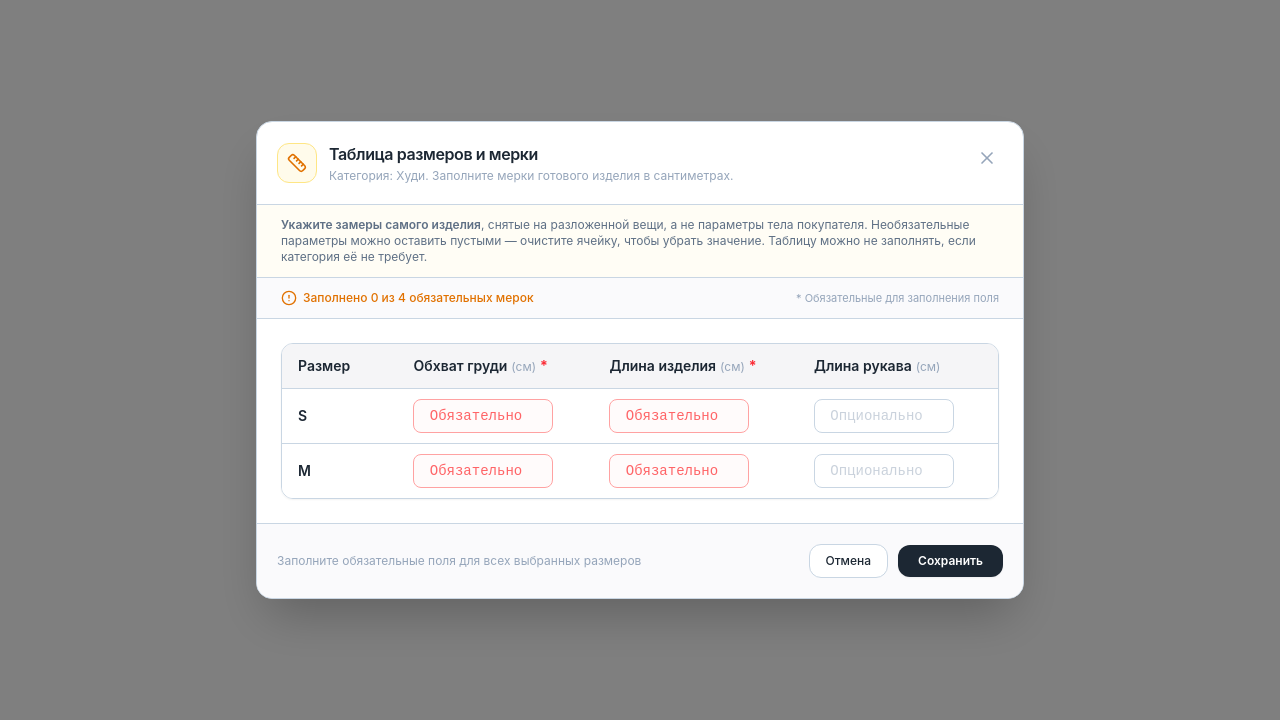
Scenario: ProductStudioSizeChartModal › entering measurements updates local state and progress badge
Type "95" into the number field with test id "measurement-input-sz-s-chest".
click(484, 416); type("95")  # box [414, 399, 554, 433]
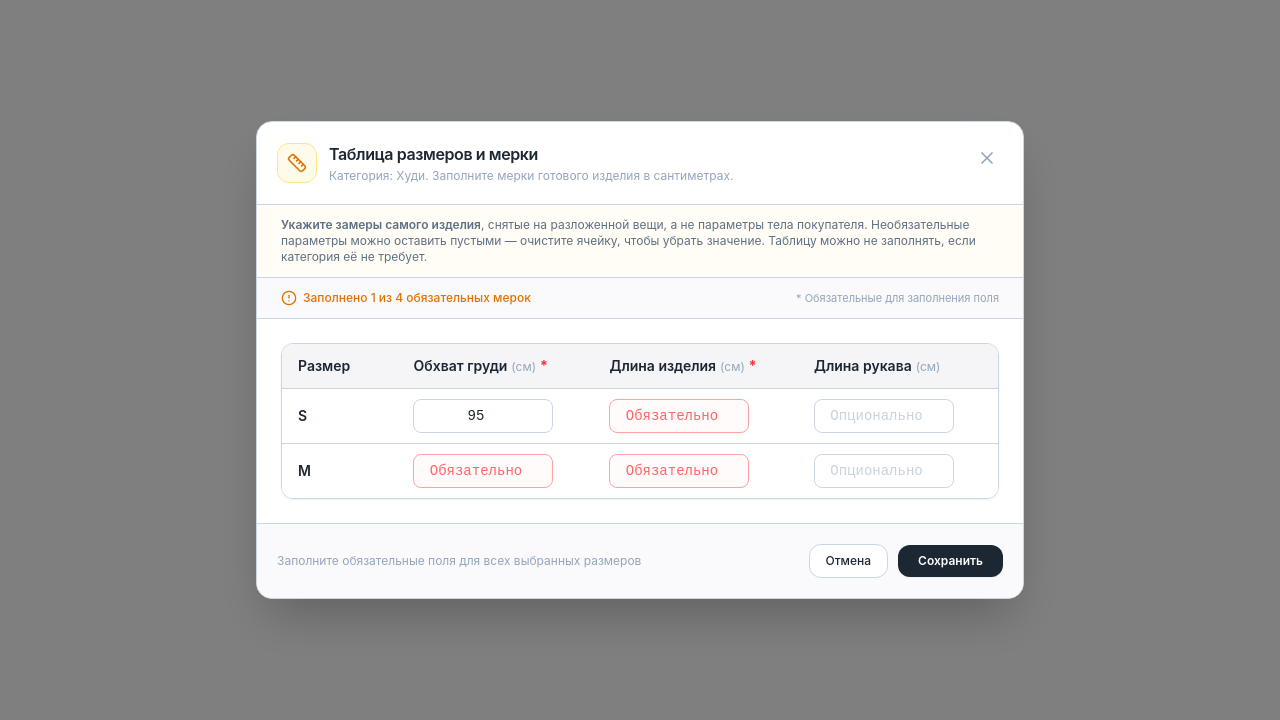
expect the text "Заполнено 1 из 4 обязательных мерок" is shown: met, box [281, 290, 531, 306]
Type "68" into the number field with test id "measurement-input-sz-s-length".
click(680, 416); type("68")  # box [610, 399, 750, 433]
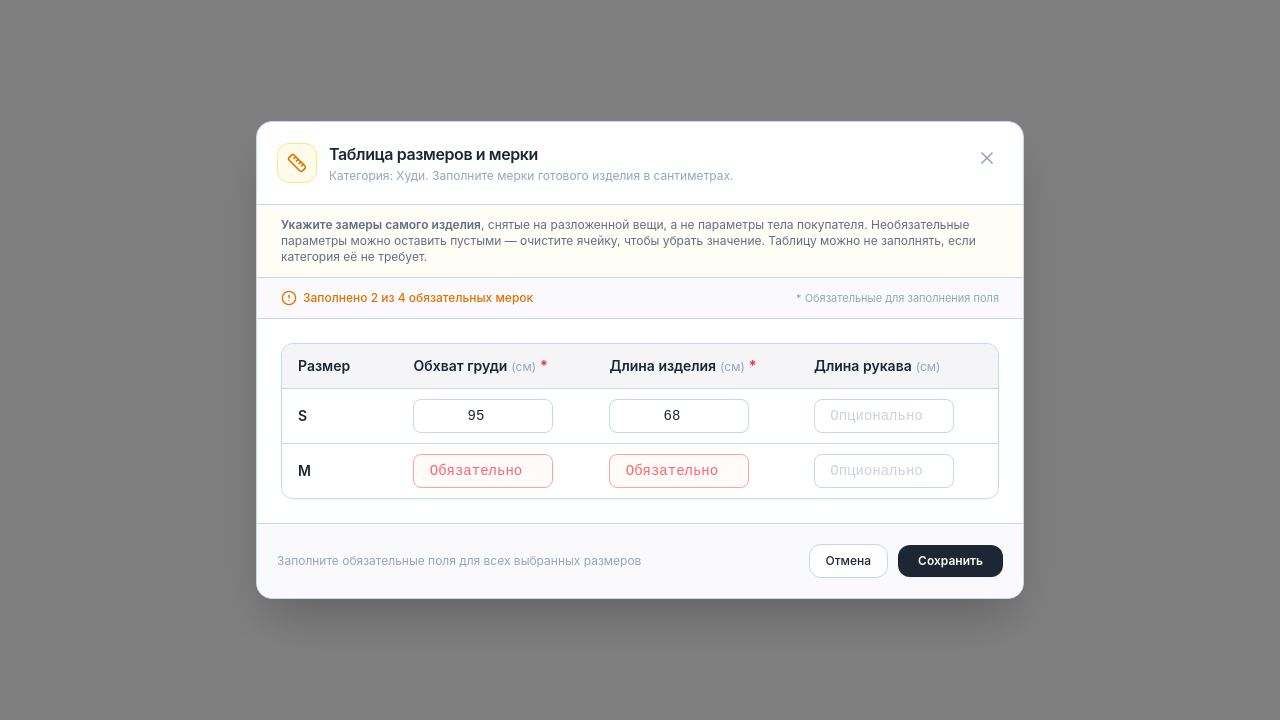
expect the text "Заполнено 2 из 4 обязательных мерок" is shown: met, box [281, 290, 533, 306]
